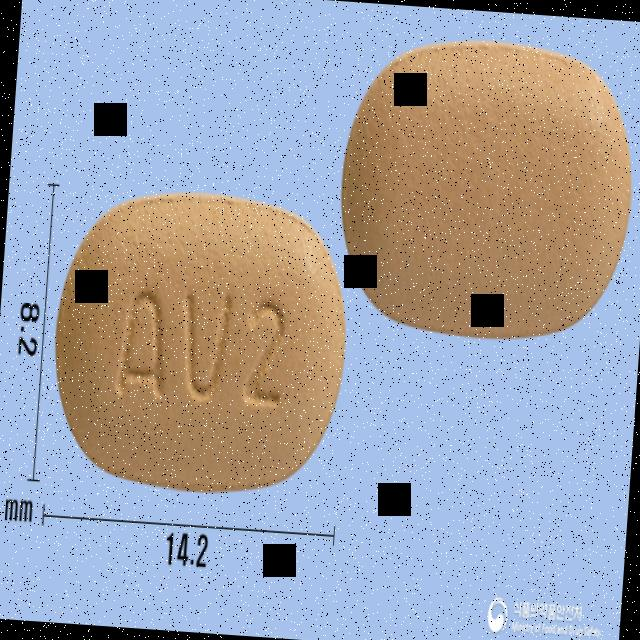Exviera: (44, 181, 356, 503)
